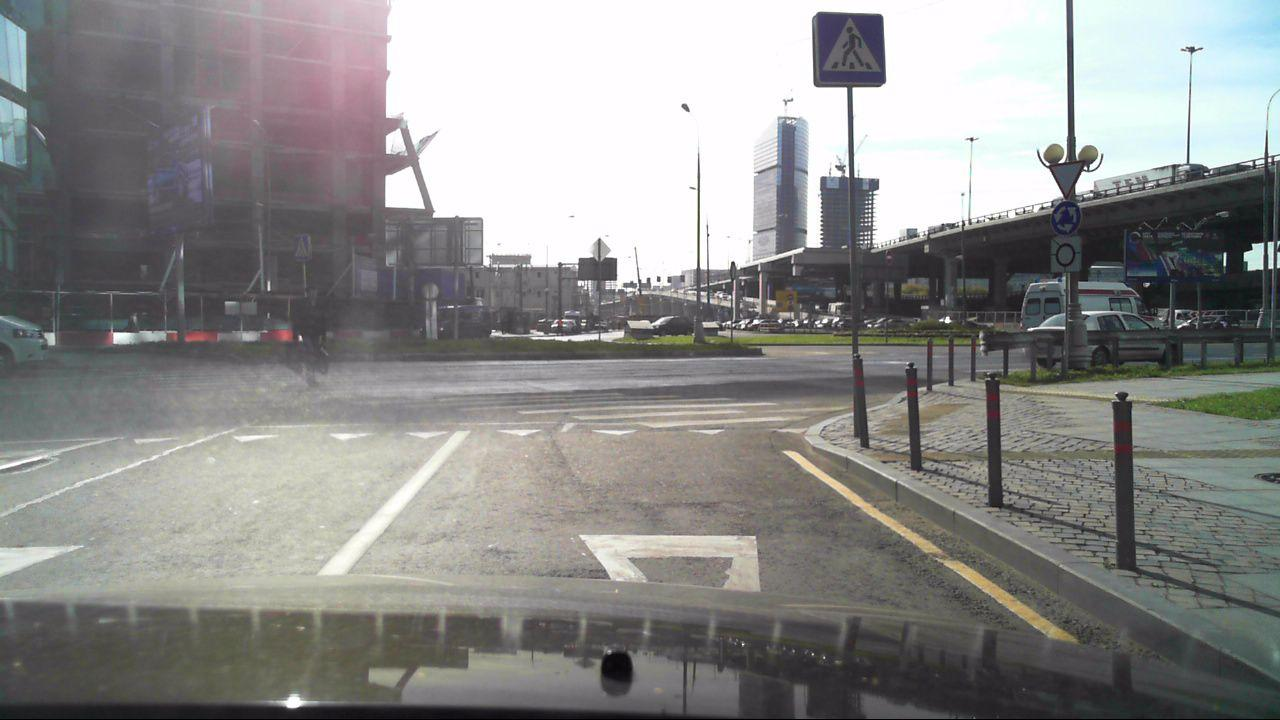2_4: (1047, 159, 1087, 197)
4_3: (1051, 200, 1082, 234)
5_19_1: (808, 8, 886, 88)
5_19_2: (290, 235, 315, 260)
8_13: (1048, 233, 1084, 272)
